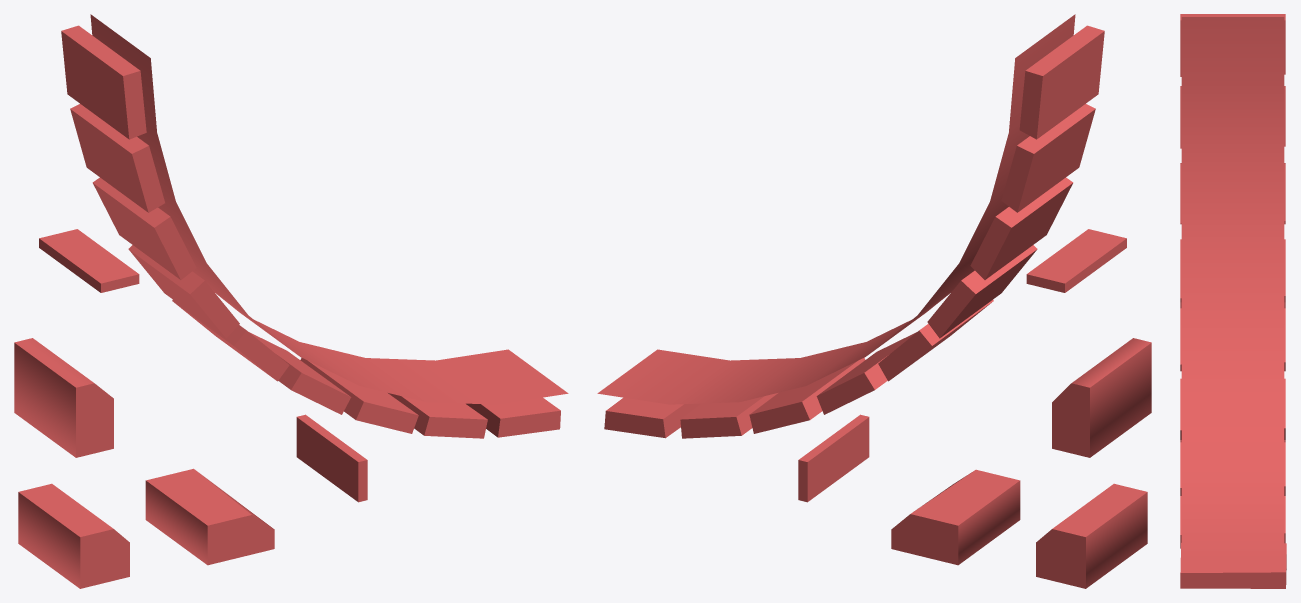
File: Slope3Color_New.fbx
3 renders of one model, left to right at view 1: azimuth 30°, elevation 25°; view 2: azimuth 150°, elevation 25°; view 3: azimuth 270°, elevation 25°, orthographic. The views are drawn at different scales.
Visible parts, largest first — view 1: polySurface489; view 2: polySurface489; view 3: polySurface489.
Boxes of the visible parts, x1,y1,x2,y2 form: polySurface489: (14, 14, 568, 588); polySurface489: (597, 14, 1151, 588); polySurface489: (1180, 14, 1286, 588).
Size of the model in its own units: 4.7 by 4.73 by 1.03.
